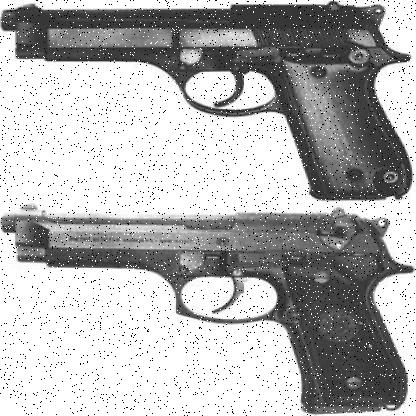pistol: (1, 203, 411, 413), (1, 3, 411, 201)
